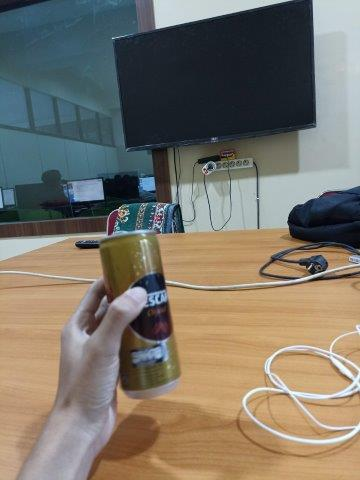kaleng: (98, 229, 182, 400)
